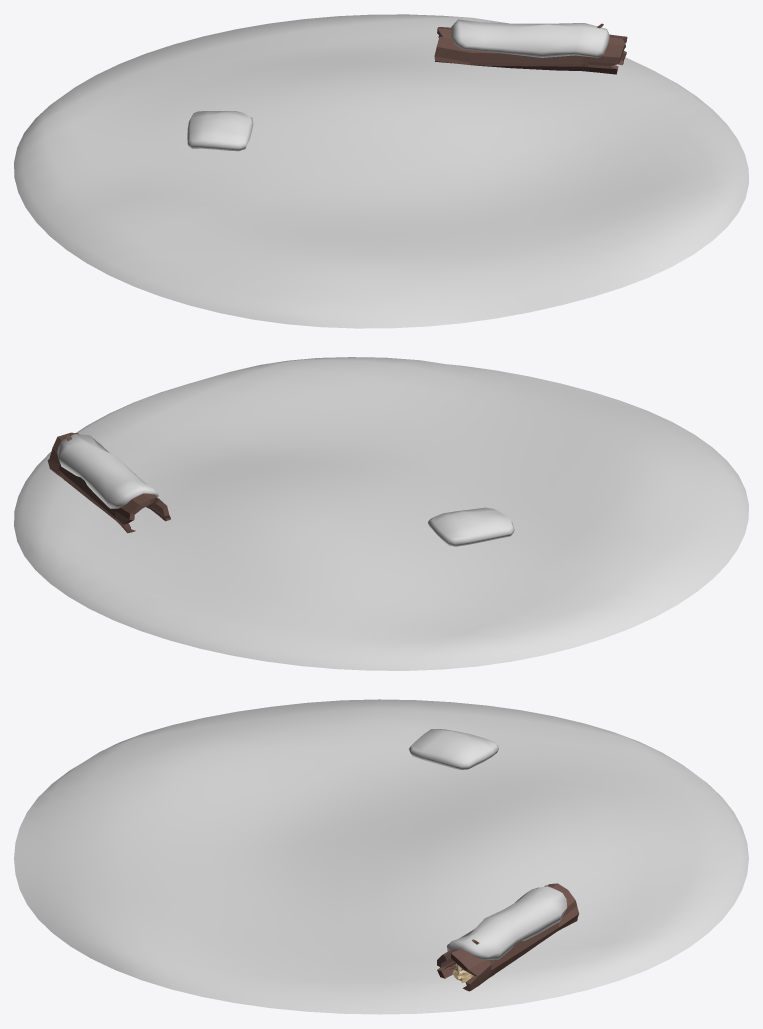
Rendered from snow_smooth.glb.
3 renders of one model, top to bottom at view 1: azimuth 30°, elevation 25°; view 2: azimuth 150°, elevation 25°; view 3: azimuth 270°, elevation 25°, orthographic.
Visible parts, largest first — view 1: snow_groundplane_smooth, log_snow, log, Plane.002; view 2: snow_groundplane_smooth, log_snow, Plane.002, log; view 3: snow_groundplane_smooth, log_snow, log, Plane.002.
Boxes of the visible parts, x1,y1,x2,y2 form: snow_groundplane_smooth: (14,14,748,328); log_snow: (451,19,609,57); log: (434,23,627,74); Plane.002: (187,111,253,151); snow_groundplane_smooth: (14,357,748,670); log_snow: (57,434,158,508); Plane.002: (428,507,514,546); log: (47,432,170,533); snow_groundplane_smooth: (14,699,748,1014); log_snow: (447,886,567,959); log: (437,883,579,991); Plane.002: (409,729,498,769).
Bounding box in the file's own units: 7.07 × 0.6137 × 7.04.
